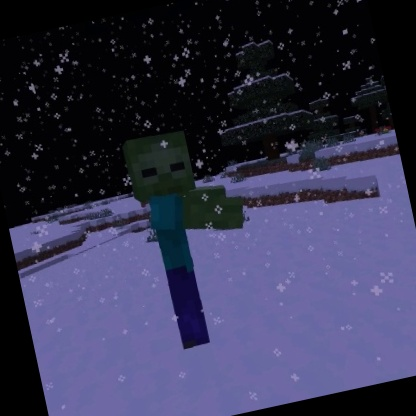zombie: (114, 112, 277, 361)
